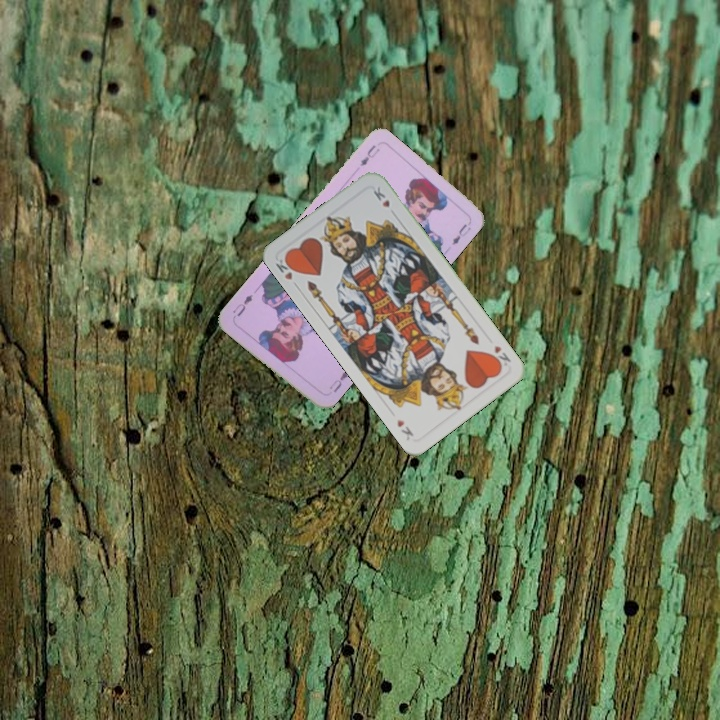EU: (325, 367, 352, 395), (356, 141, 382, 169)
HK: (271, 253, 301, 291), (486, 341, 513, 372)
